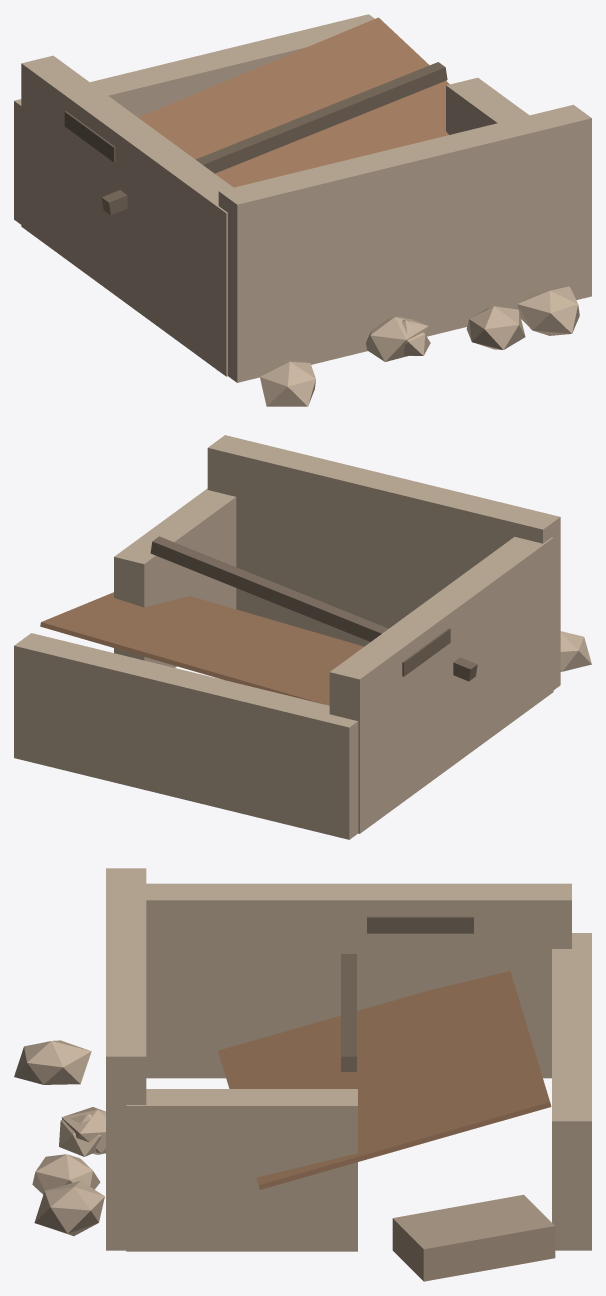
File: RanchRuin.glb
3 renders of one model, top to bottom at view 1: azimuth 30°, elevation 25°; view 2: azimuth 150°, elevation 25°; view 3: azimuth 270°, elevation 25°, orthographic. The views are drawn at different scales.
Visible parts, largest first — view 1: Stone wall, Stone wall.002, Collapsed roof, Stone wall.001, Roof beam, Broken gable, Rubble.002, Rubble.004, Rubble.001, Rubble.003, Door lintel, Rubble; view 2: Stone wall.001, Stone wall, Stone wall.002, Collapsed roof, Broken gable, Roof beam, Rubble.004, Door lintel; view 3: Stone wall.002, Broken gable, Collapsed roof, Stone wall, Stone wall.001, Fallen stones, Rubble.002, Rubble.004, Door lintel, Roof beam, Rubble.001, Rubble.003 (+1 smaller).
Boxes of the visible parts, x1=… form: Stone wall: x1=218, y1=104, x2=591, y2=382; Stone wall.002: x1=21, y1=55, x2=233, y2=376; Collapsed roof: x1=138, y1=17, x2=449, y2=187; Stone wall.001: x1=14, y1=14, x2=374, y2=224; Roof beam: x1=101, y1=62, x2=447, y2=215; Broken gable: x1=446, y1=77, x2=529, y2=134; Rubble.002: x1=517, y1=286, x2=579, y2=335; Rubble.004: x1=260, y1=358, x2=315, y2=406; Rubble.001: x1=466, y1=306, x2=525, y2=349; Rubble.003: x1=366, y1=316, x2=428, y2=361; Door lintel: x1=64, y1=111, x2=115, y2=162; Rubble: x1=402, y1=319, x2=430, y2=355; Stone wall.001: x1=14, y1=633, x2=358, y2=839; Stone wall: x1=207, y1=435, x2=560, y2=689; Stone wall.002: x1=329, y1=537, x2=553, y2=833; Collapsed roof: x1=40, y1=592, x2=363, y2=705; Broken gable: x1=114, y1=488, x2=236, y2=667; Roof beam: x1=150, y1=536, x2=477, y2=681; Rubble.004: x1=560, y1=631, x2=591, y2=671; Door lintel: x1=402, y1=628, x2=450, y2=676; Stone wall.002: x1=146, y1=883, x2=571, y2=1078; Broken gable: x1=126, y1=1089, x2=357, y2=1251; Collapsed roof: x1=218, y1=971, x2=551, y2=1189; Stone wall: x1=106, y1=868, x2=146, y2=1250; Stone wall.001: x1=552, y1=933, x2=591, y2=1250; Fallen stones: x1=392, y1=1194, x2=555, y2=1281; Rubble.002: x1=34, y1=1180, x2=104, y2=1236; Rubble.004: x1=14, y1=1040, x2=91, y2=1084; Door lintel: x1=367, y1=916, x2=473, y2=933; Roof beam: x1=341, y1=954, x2=356, y2=1071; Rubble.001: x1=32, y1=1154, x2=100, y2=1194; Rubble.003: x1=61, y1=1107, x2=105, y2=1154.
Bounding box in the file's own units: 6.11 × 2.6 × 6.48.
